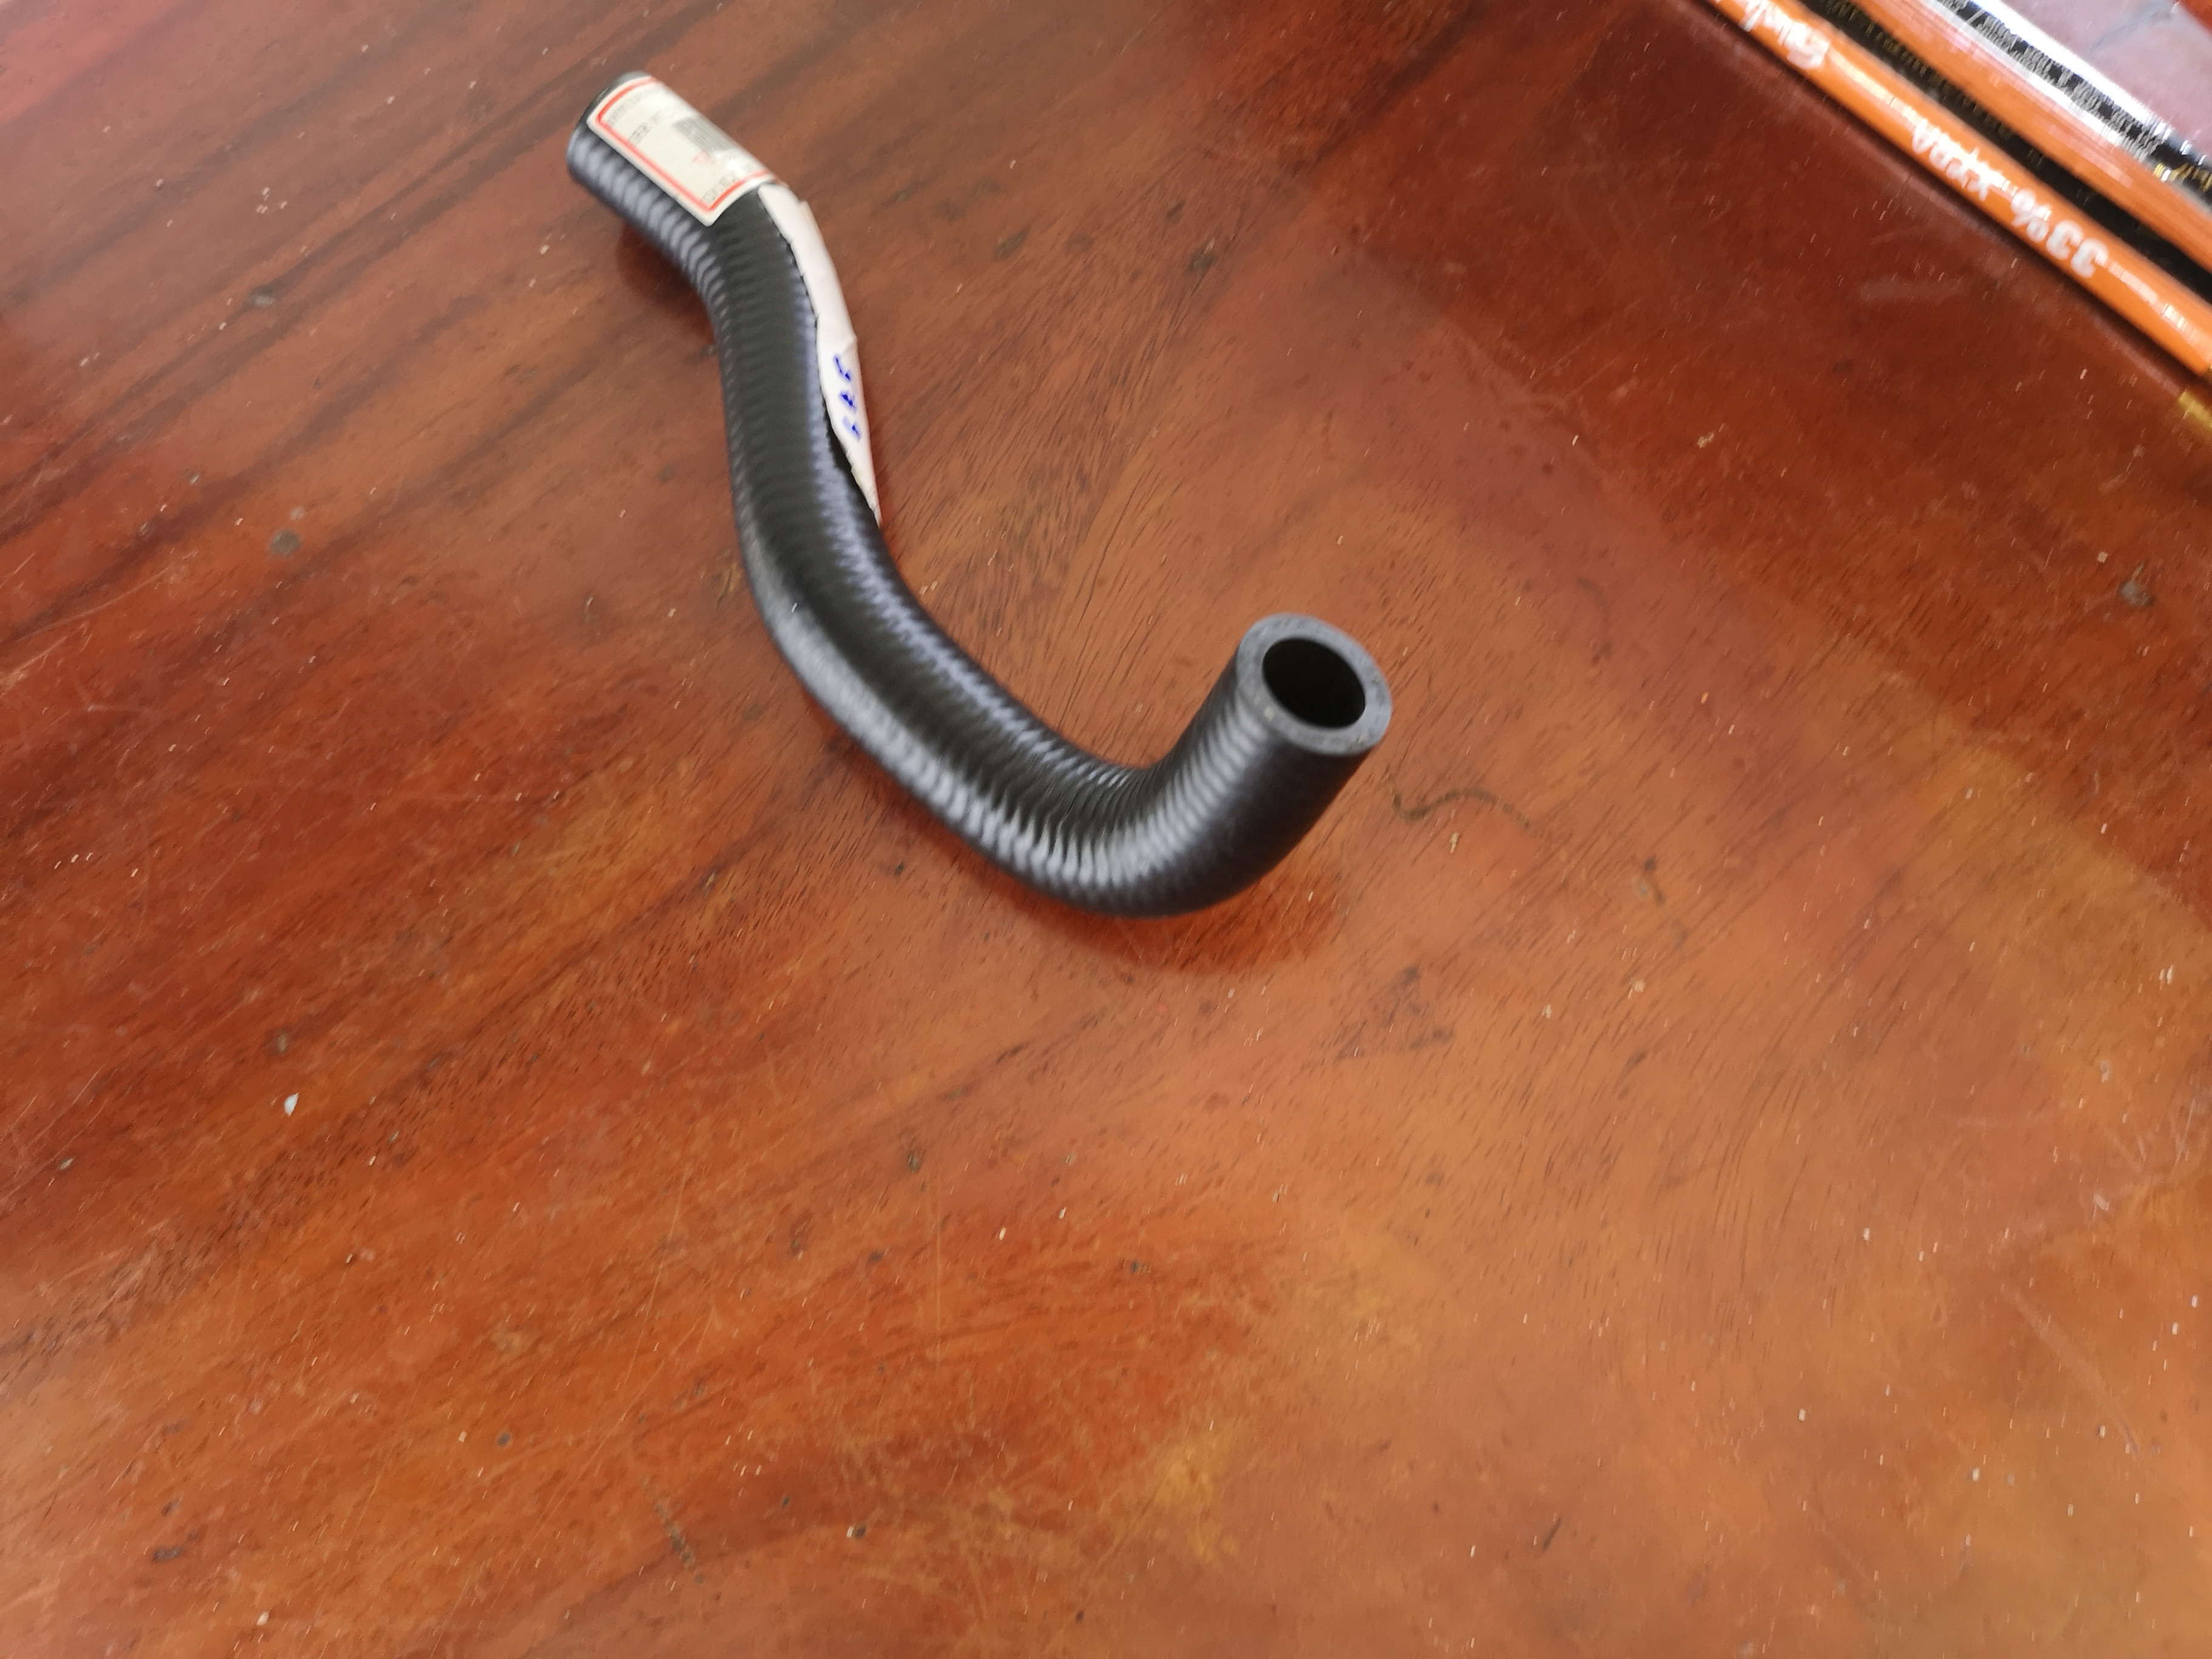ท่อยางน้ำมันเลี้ยงเทอร์โบ: (542, 56, 1433, 992)
